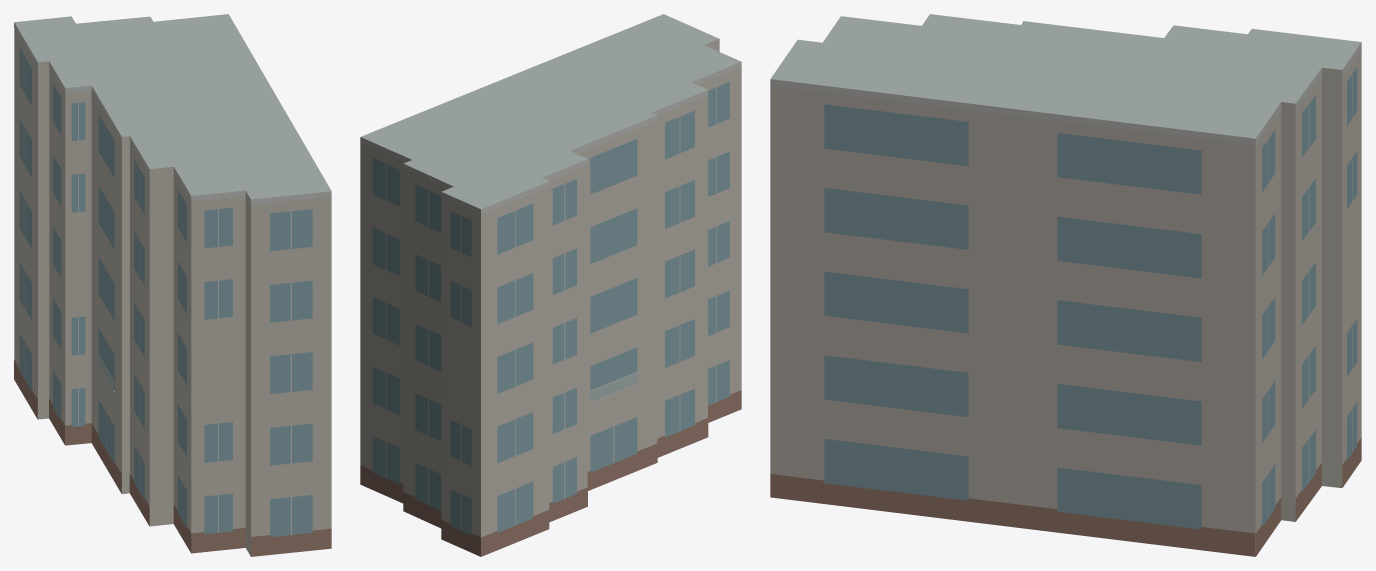
File: survey-upis-32711084.glb
3 renders of one model, left to right at view 1: azimuth 30°, elevation 25°; view 2: azimuth 150°, elevation 25°; view 3: azimuth 270°, elevation 25°, orthographic. The views are drawn at different scales.
Parts seen in each view (by area): view 1: survey-upis-32711084.tmp; view 2: survey-upis-32711084.tmp; view 3: survey-upis-32711084.tmp.
Part boxes in pixels (x1=…): survey-upis-32711084.tmp: x1=14, y1=14, x2=331, y2=556; survey-upis-32711084.tmp: x1=360, y1=14, x2=741, y2=556; survey-upis-32711084.tmp: x1=770, y1=14, x2=1361, y2=556.
Bounding box in the file's own units: 10.3 × 16.1 × 20.64.
